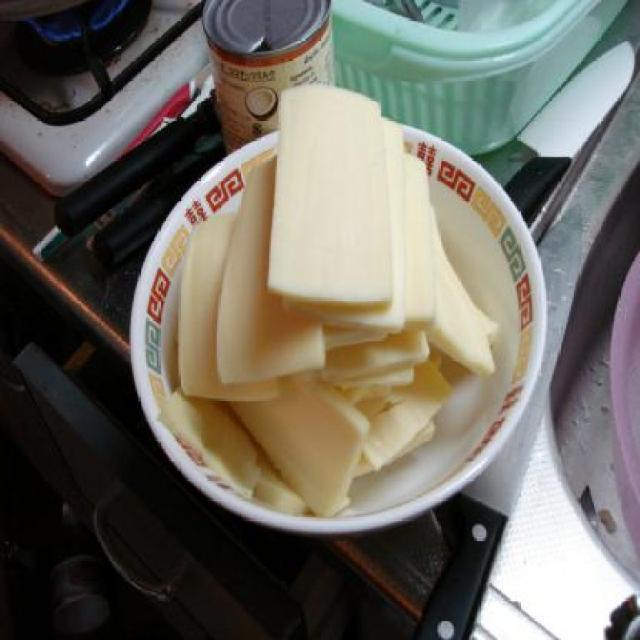Cheese: (156, 82, 498, 520)
